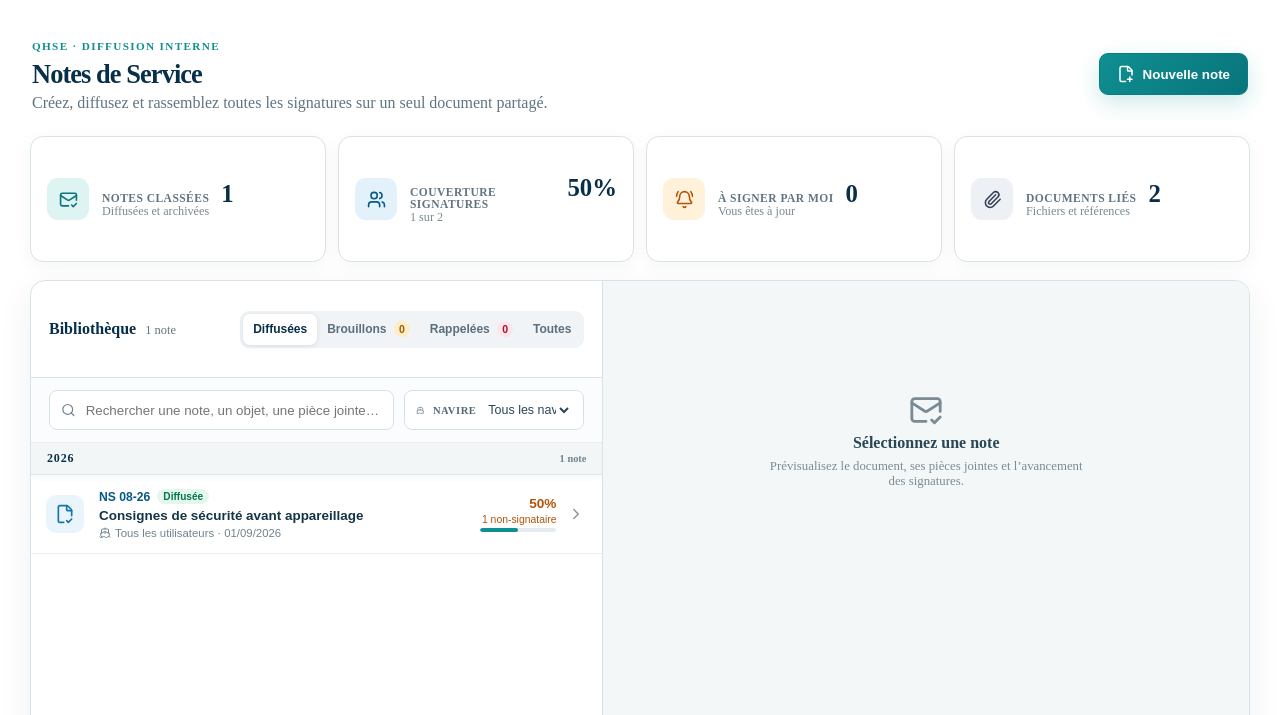
Scenario: ServiceNotesPage › closes the pending source popup for Document inaccessible. without opening the old SharePoint source
What coordinates should you click on to do the following:
click the text "NS 08-26"
I would click on:
 (125, 496)
Its box is left=99, top=490, right=150, bottom=504.
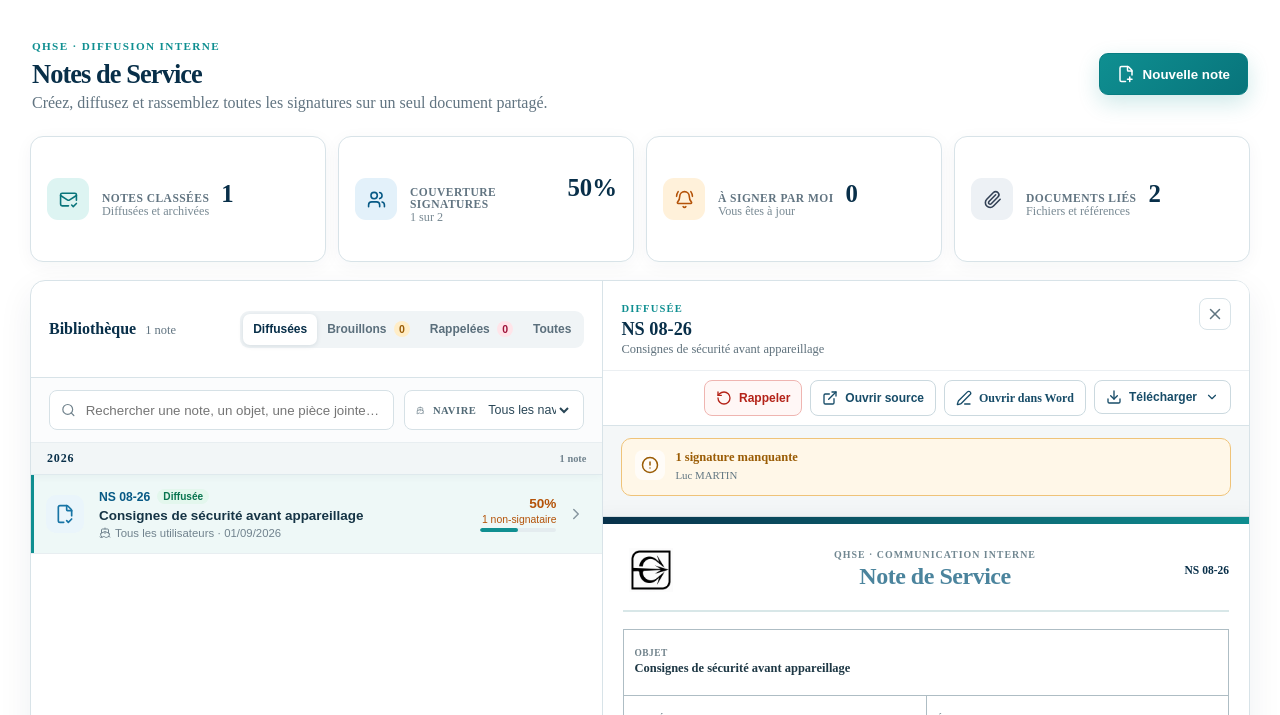
What coordinates should you click on to do the following:
click the button "Ouvrir source"
I would click on:
 (873, 398)
Its box is left=810, top=380, right=936, bottom=416.
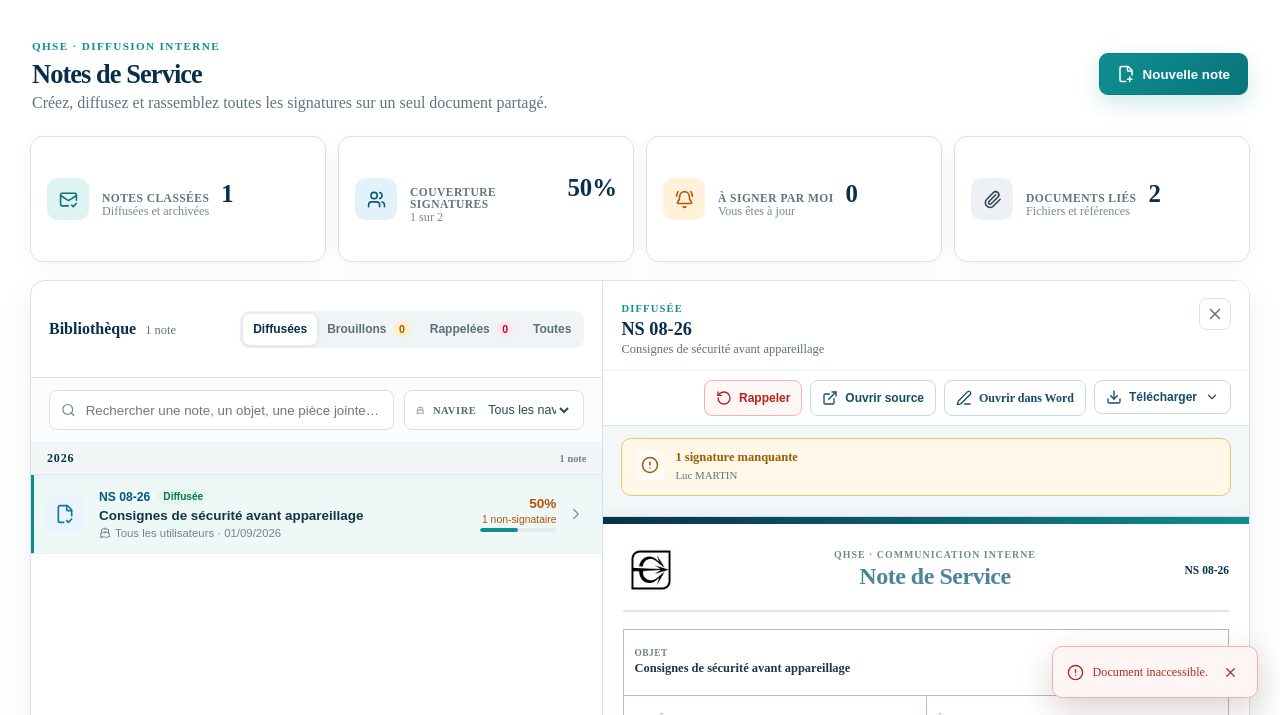
Check: the text "Document inaccessible." is shown, box left=1052, top=646, right=1258, bottom=698
